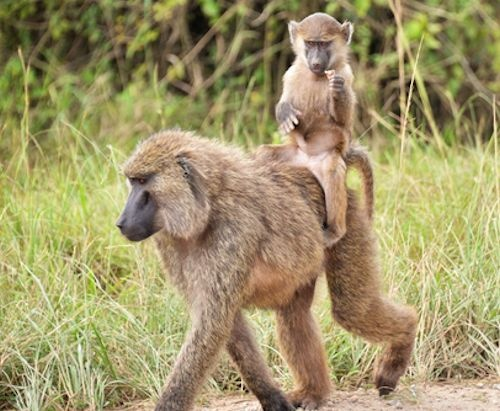monkey: (113, 126, 425, 411), (254, 8, 375, 244)
